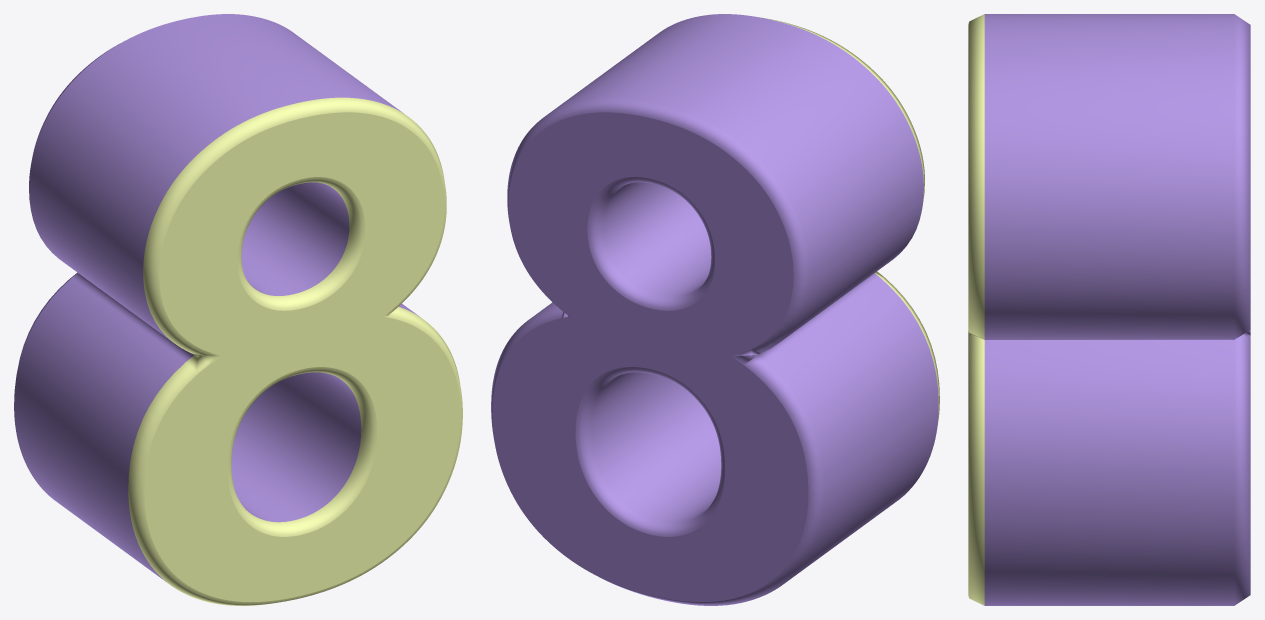
3 renders of one model, left to right at view 1: azimuth 30°, elevation 25°; view 2: azimuth 150°, elevation 25°; view 3: azimuth 270°, elevation 25°, orthographic. The views are drawn at different scales.
Visible parts, largest first — view 1: Delapan 3D; view 2: Delapan 3D; view 3: Delapan 3D.
Boxes of the visible parts, left/top/right/bottom form: Delapan 3D: left=14, top=14, right=462, bottom=605; Delapan 3D: left=491, top=14, right=939, bottom=605; Delapan 3D: left=968, top=14, right=1250, bottom=605.
Bounding box in the file's own units: 116 × 164 × 77.6.
